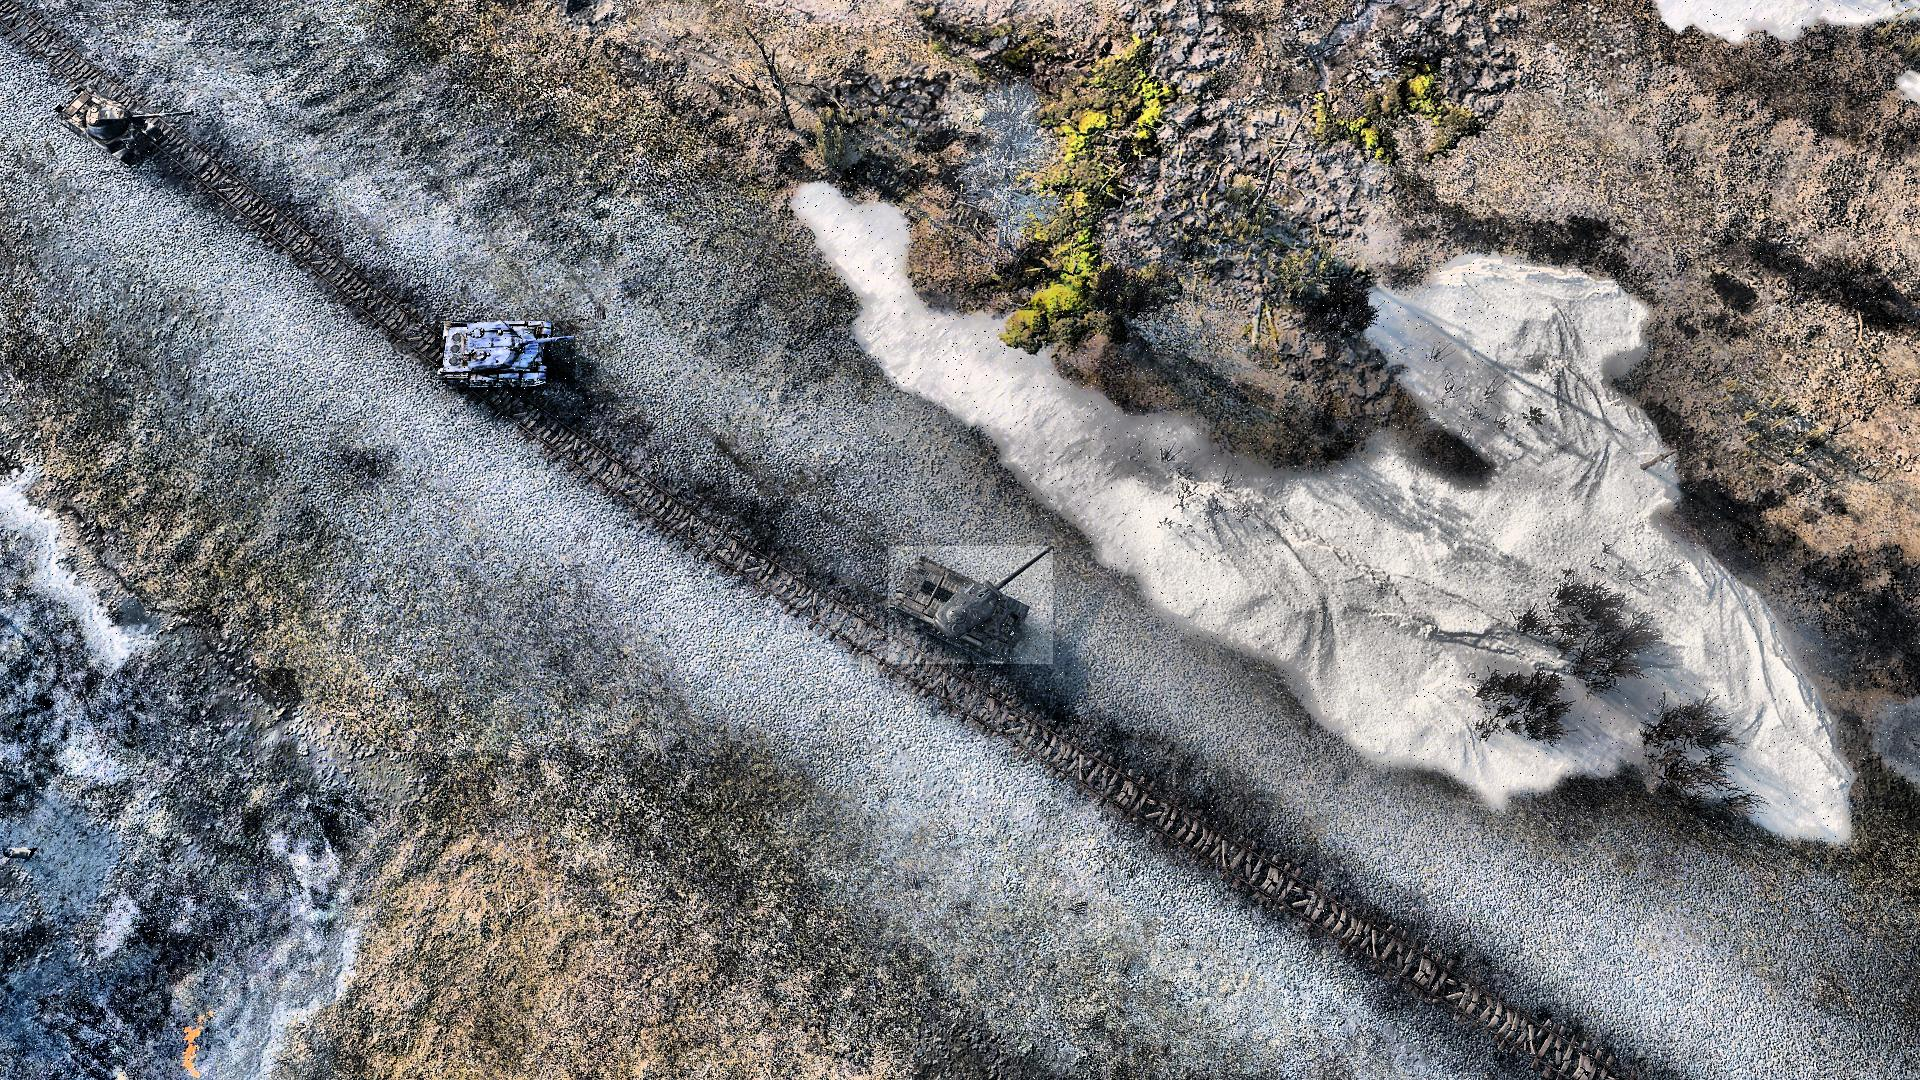military-vehicle: (889, 547, 1054, 665), (55, 83, 195, 170), (435, 322, 575, 392)
